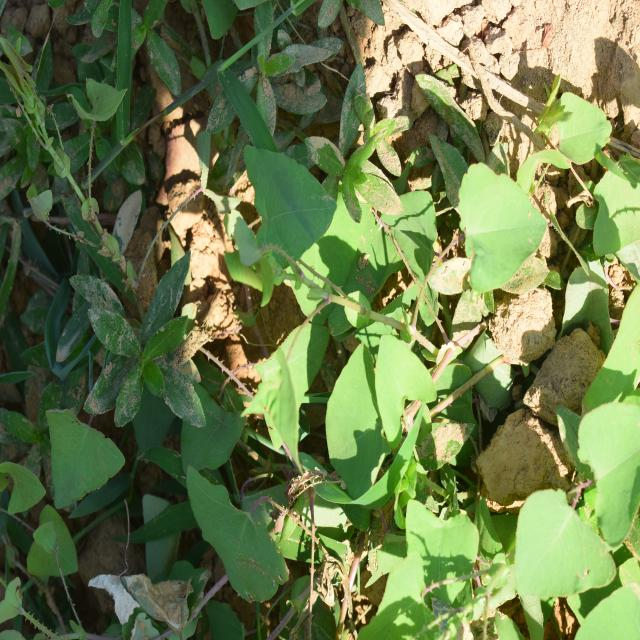Asiatic_Smartweed: (228, 146, 356, 412), (515, 394, 640, 628), (320, 321, 433, 467), (456, 154, 538, 315)
